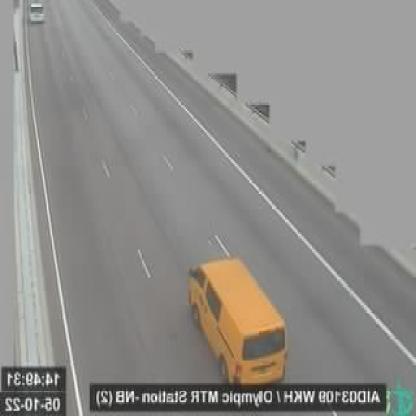Car: (188, 256, 288, 385), (31, 3, 46, 24)
